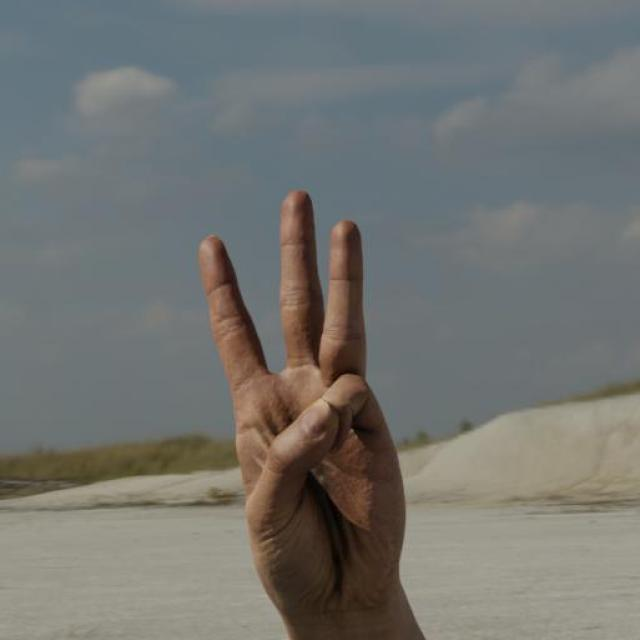W: (186, 186, 408, 634)
